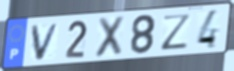2: (64, 19, 89, 59)
4: (193, 9, 221, 51)
8: (128, 13, 157, 56)
V: (30, 21, 62, 62)
X: (93, 14, 127, 60)
Z: (160, 12, 193, 52)
